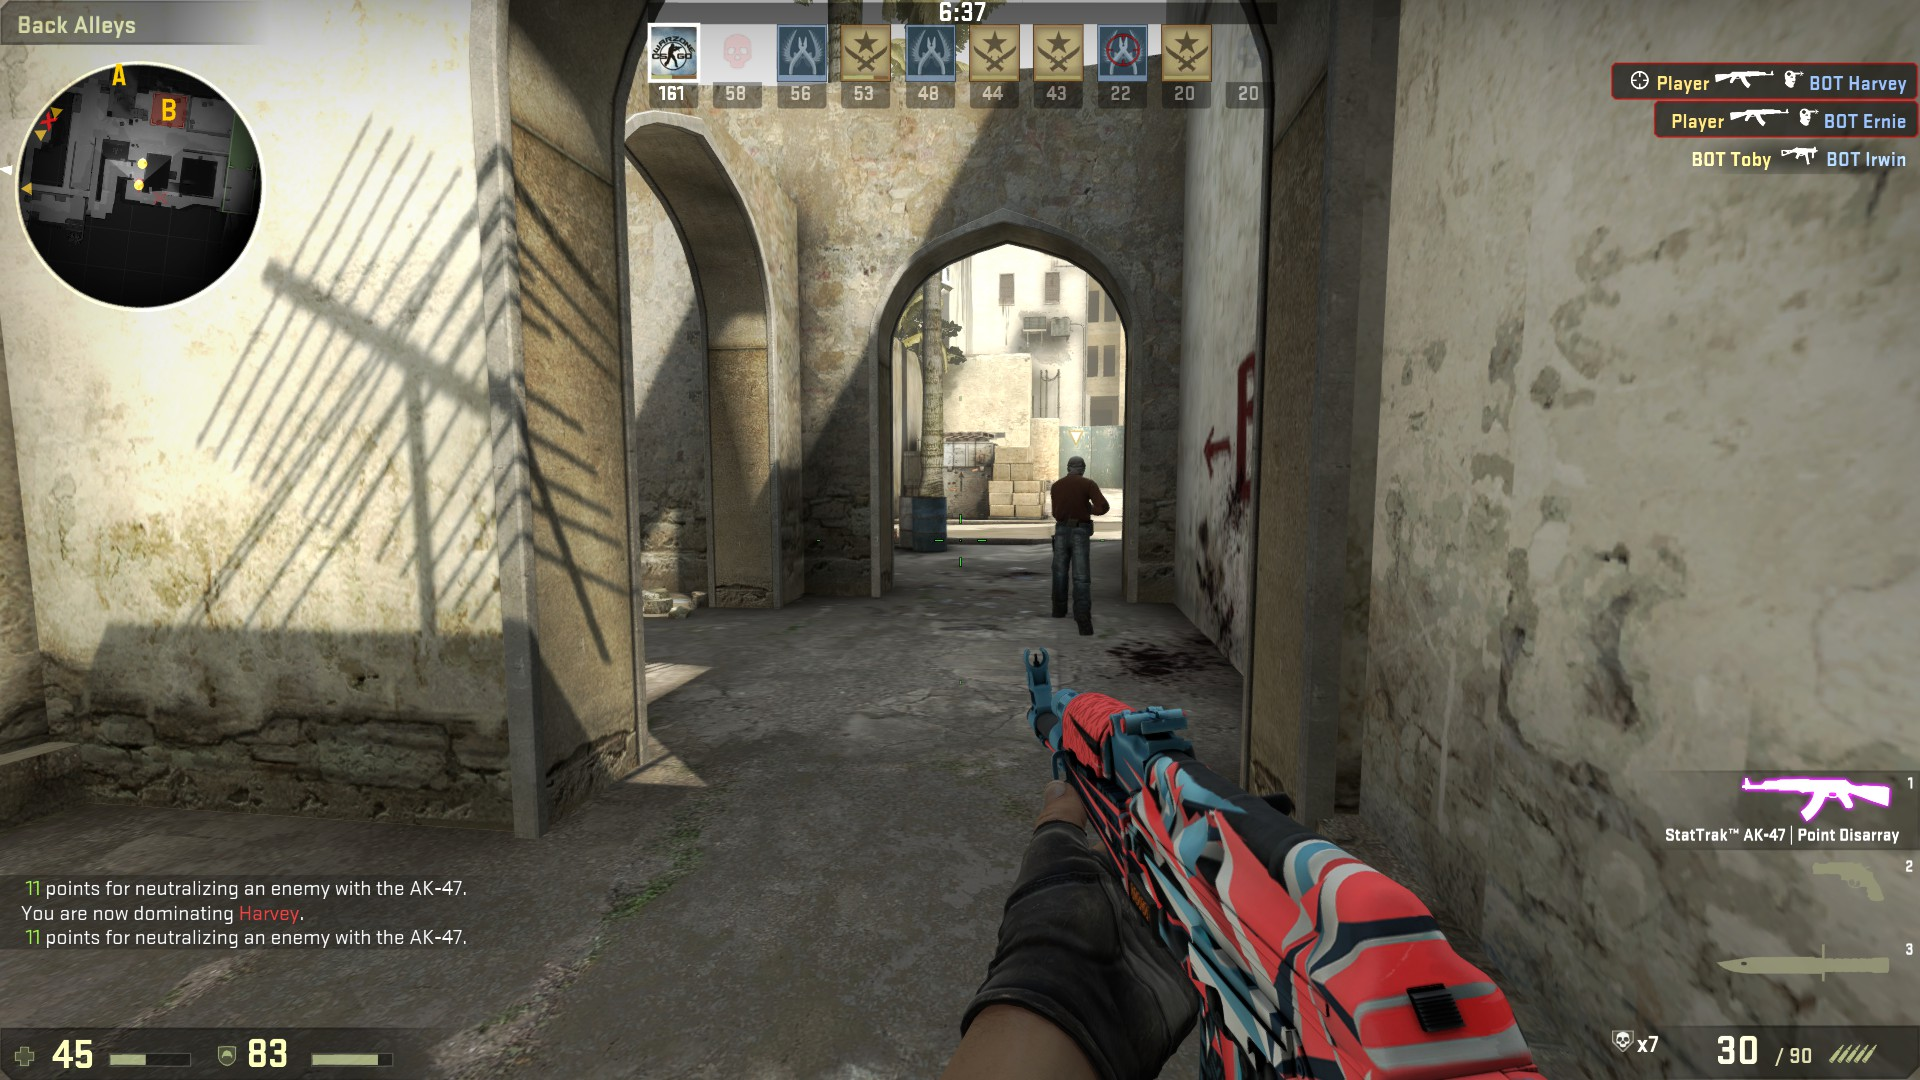t: (1044, 455, 1102, 636)
th: (1065, 455, 1087, 479)
